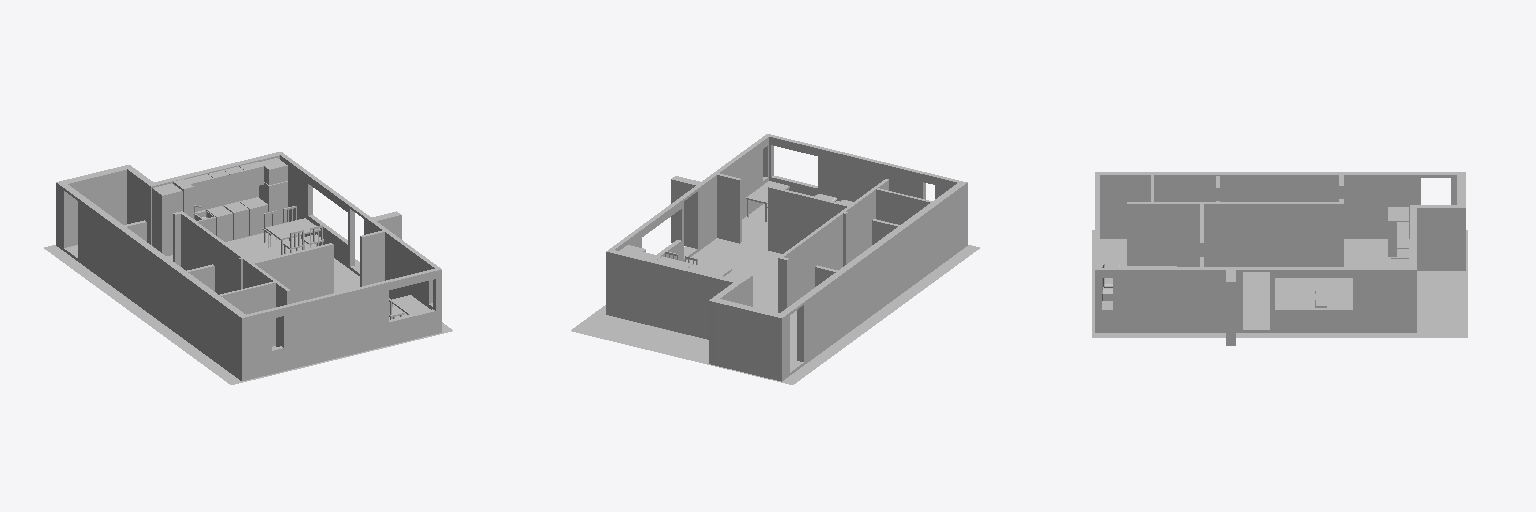
The model's file is OttoBrandt04.obj.
The picture shows the model from 3 angles: view 1: azimuth 30°, elevation 25°; view 2: azimuth 150°, elevation 25°; view 3: azimuth 270°, elevation 25°; orthographic projection.
Parts seen in each view (by area): view 1: wall_outer_Cube, wall_internal_Cube.013, Plane, kitchen05.001_Cube.014, kitchen01_fridge_Cube.011, kitchen_table_Cube.004, kitchen07_Cube.005, kitchen06_Cube.006, kitchen05_Cube.007, bedroom_desk_Cube.003, kitchen04_Cube.008, kitchen07.001_Cube.012; view 2: wall_outer_Cube, wall_internal_Cube.013, Plane; view 3: wall_outer_Cube, wall_internal_Cube.013, Plane, kitchen_table_Cube.004.
Boxes of the visible parts, box(x1,y1,x2,y2) form: wall_outer_Cube: box(56, 152, 441, 380); wall_internal_Cube.013: box(124, 211, 384, 346); Plane: box(44, 233, 452, 384); kitchen05.001_Cube.014: box(185, 162, 263, 201); kitchen01_fridge_Cube.011: box(152, 183, 182, 255); kitchen_table_Cube.004: box(263, 206, 323, 254); kitchen07_Cube.005: box(259, 181, 287, 226); kitchen06_Cube.006: box(239, 197, 267, 235); kitchen05_Cube.007: box(224, 202, 248, 239); bedroom_desk_Cube.003: box(389, 295, 430, 319); kitchen04_Cube.008: box(206, 206, 232, 241); kitchen07.001_Cube.012: box(259, 158, 287, 184); wall_outer_Cube: box(606, 134, 967, 381); wall_internal_Cube.013: box(716, 173, 932, 313); Plane: box(571, 204, 979, 384); wall_outer_Cube: box(1095, 172, 1465, 345); wall_internal_Cube.013: box(1127, 175, 1343, 267); Plane: box(1092, 230, 1467, 337); kitchen_table_Cube.004: box(1315, 284, 1352, 307).
Size of the model in its own units: 7.87 by 2 by 10.78.